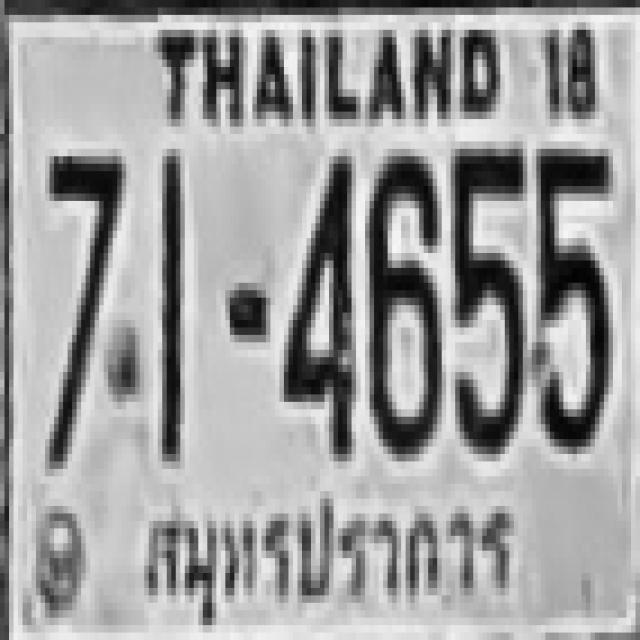1: (158, 152, 180, 458)
4: (280, 149, 352, 454)
5: (532, 142, 608, 446), (451, 142, 523, 446)
6: (365, 153, 437, 450)
7: (45, 149, 122, 461)
SamutPrakan: (134, 488, 521, 612)
